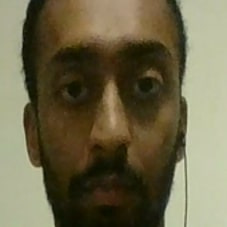awake: (47, 34, 179, 212)
